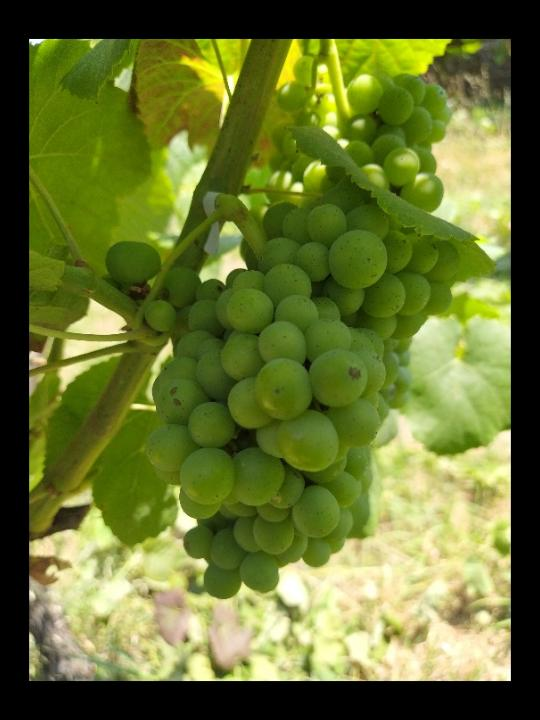grape: (104, 174, 461, 603)
